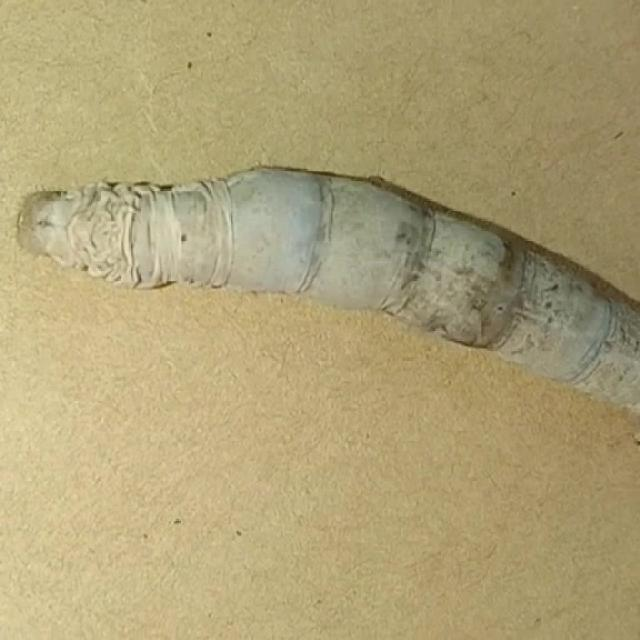Grasserie: (1, 135, 640, 450)
